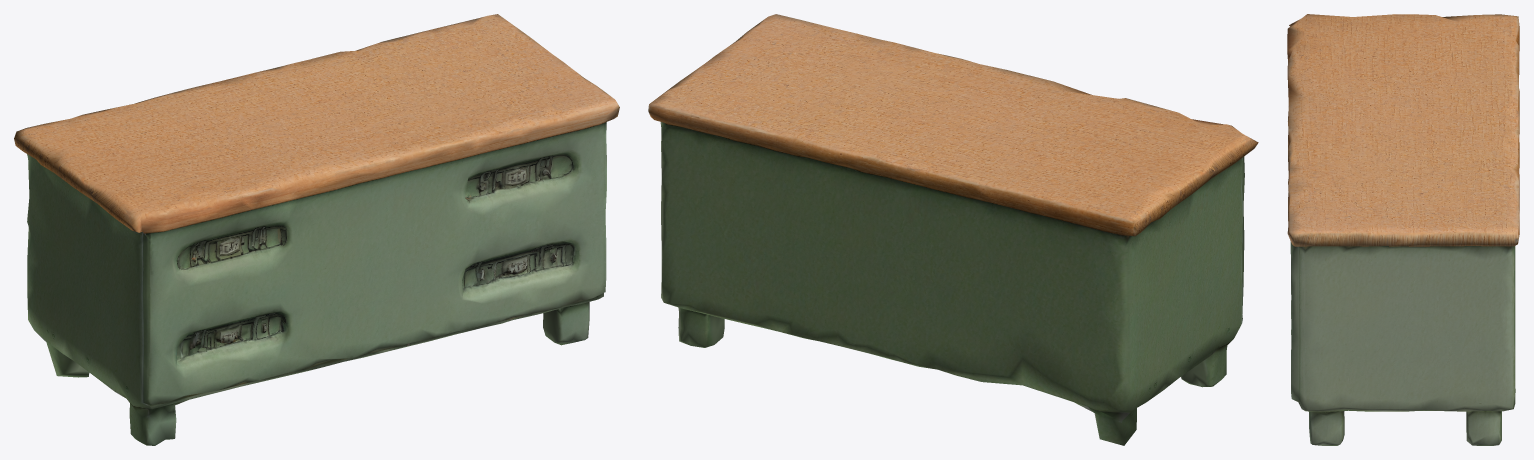
Rendered from P_ShelfTable_h100.fbx.
3 views of the same model, side by side, from view 1: azimuth 30°, elevation 25°; view 2: azimuth 150°, elevation 25°; view 3: azimuth 270°, elevation 25° (orthographic). The views are drawn at different scales.
Parts seen in each view (by area): view 1: texture_mapping; view 2: texture_mapping; view 3: texture_mapping.
Boxes of the visible parts, x1,y1,x2,y2 form: texture_mapping: (14,14,619,445); texture_mapping: (648,14,1258,445); texture_mapping: (1287,14,1519,445).
Size of the model in its own units: 1 by 0.4482 by 0.4803.
Materials: 1 (1 with a texture image).
